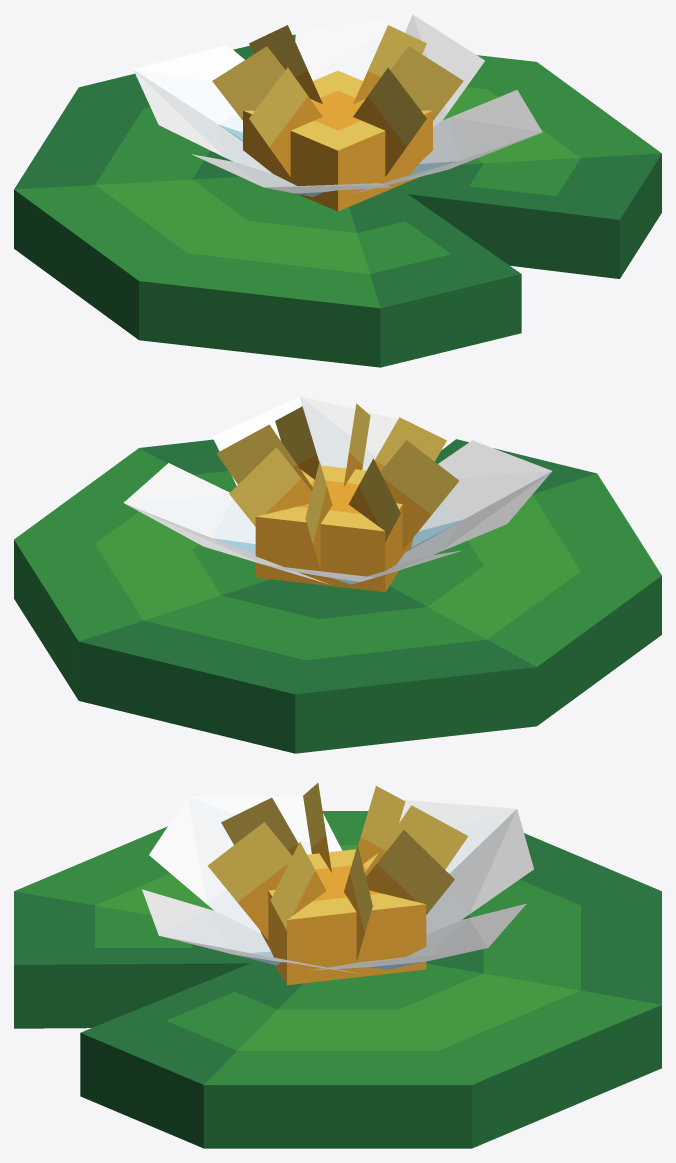
The model's file is waterLilypadSmall2.fbx.
3 views of the same model, one above another, from view 1: azimuth 30°, elevation 25°; view 2: azimuth 150°, elevation 25°; view 3: azimuth 270°, elevation 25° (orthographic). The views are drawn at different scales.
Visible parts, largest first — view 1: circle, lilypad, plane_3, plane, plane_1, plane_5, plane_9, plane_8, plane_10, plane_2, plane_6, plane_11; view 2: circle, lilypad, plane_2, plane, plane_1, plane_9, plane_4, plane_11, plane_8, plane_10, plane_7, plane_6 (+2 smaller); view 3: circle, lilypad, plane_3, plane_2, plane_1, plane_5, plane_4, plane, plane_6, plane_10, plane_8, plane_7 (+2 smaller).
Boxes of the visible parts, x1,y1,x2,y2 form: circle: (14, 34, 661, 367); lilypad: (243, 70, 432, 211); plane_3: (133, 45, 272, 173); plane: (295, 14, 484, 126); plane_1: (354, 90, 542, 193); plane_5: (353, 67, 426, 176); plane_9: (249, 67, 322, 176); plane_8: (212, 46, 285, 120); plane_10: (390, 46, 463, 120); plane_2: (191, 154, 392, 196); plane_6: (249, 25, 322, 103); plane_11: (353, 25, 426, 103); circle: (14, 439, 661, 753); lilypad: (255, 465, 413, 592); plane_2: (397, 440, 551, 564); plane: (124, 463, 327, 583); plane_1: (212, 396, 409, 485); plane_9: (380, 440, 459, 550); plane_4: (229, 447, 311, 526); plane_11: (216, 424, 312, 490); plane_8: (348, 458, 400, 541); plane_10: (275, 406, 319, 479); plane_7: (374, 417, 446, 471); plane_6: (305, 462, 332, 569); circle: (14, 811, 661, 1148); lilypad: (260, 849, 426, 985); plane_3: (399, 800, 533, 934); plane_2: (149, 796, 341, 933); plane_1: (142, 889, 360, 973); plane_5: (207, 822, 292, 939); plane_4: (366, 830, 454, 914); plane: (309, 903, 526, 970); plane_6: (365, 805, 468, 876); plane_10: (270, 842, 326, 930); plane_8: (358, 786, 405, 864); plane_7: (221, 797, 298, 855).
Bounding box in the file's own units: 56.25 × 18.97 × 56.25.
Materials: 1 (1 with a texture image).
